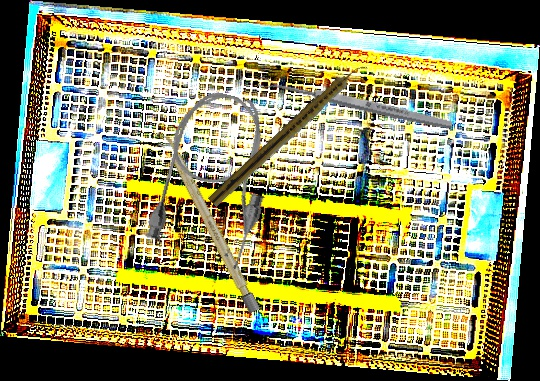Cannula: (142, 83, 287, 272)
Handpiece: (207, 57, 370, 211)
Scalpel Handle: (159, 132, 261, 314)
Surgical Spoon: (257, 74, 454, 132)
